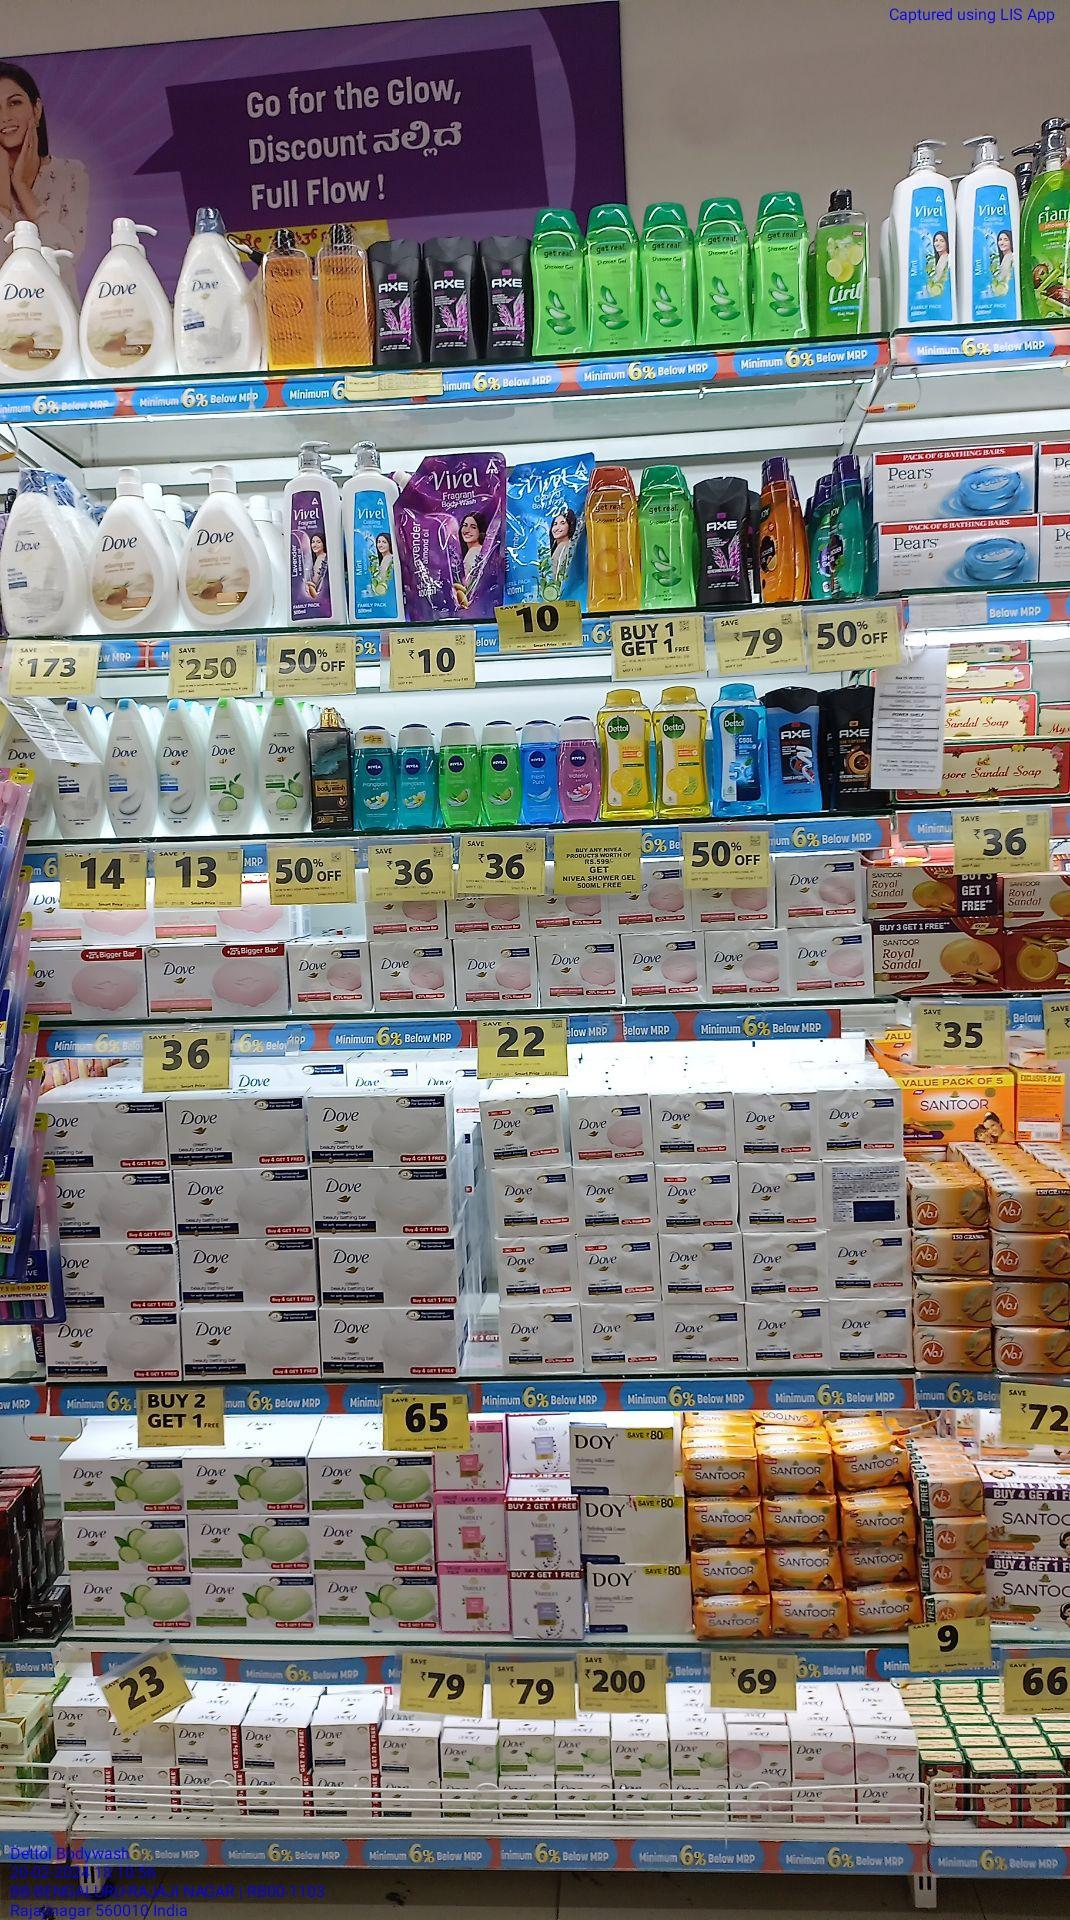Dettol_Bodywash_Cool: (716, 681, 766, 817)
Dettol_Bodywash_Refresh: (600, 688, 655, 821), (656, 689, 712, 818)
Dove_Refreshing_Body_Wash_250ML: (204, 697, 257, 834), (258, 700, 308, 833)
Get_Real_Shower_Gel_Moisturising_Glycerin_300ML: (586, 460, 642, 610)
Joy_Shower_Gel_Mandarin_and_Lemongrass_250ML: (759, 464, 792, 602)
Joy_Shower_Gel_Mint_and_Eucalyptus_250ML: (103, 696, 158, 838), (161, 698, 202, 835)
Liril_Lime_and_Tea_Tree_Oil_Body_Wash_250ML: (813, 187, 868, 335)
